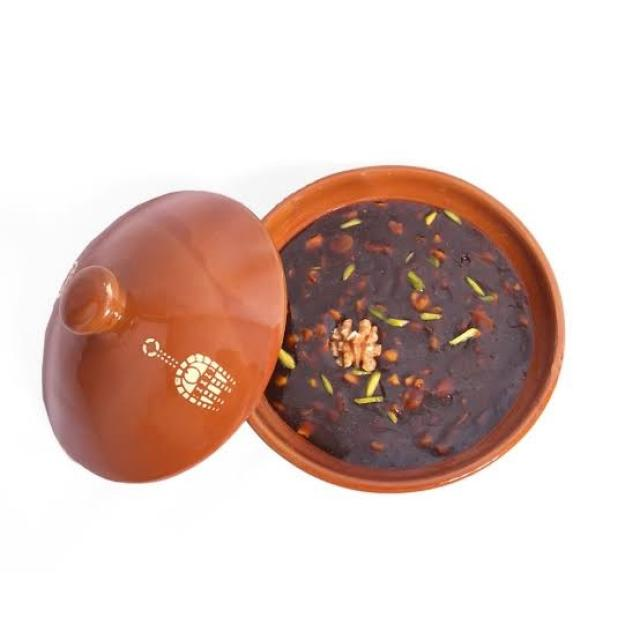Halwa: (262, 195, 540, 471)
